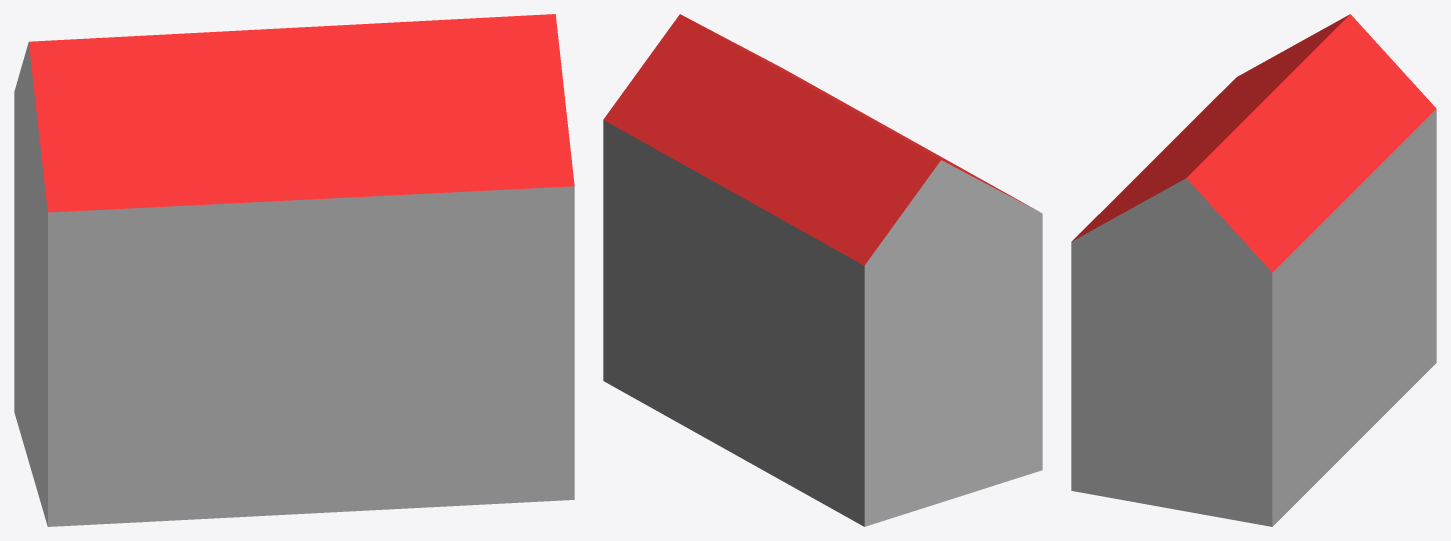
File: DEBY_LOD2_4907016.dae
3 renders of one model, left to right at view 1: azimuth 30°, elevation 25°; view 2: azimuth 150°, elevation 25°; view 3: azimuth 270°, elevation 25°, orthographic. The views are drawn at different scales.
Size of the model in its own units: 26.23 by 20.24 by 20.39.
